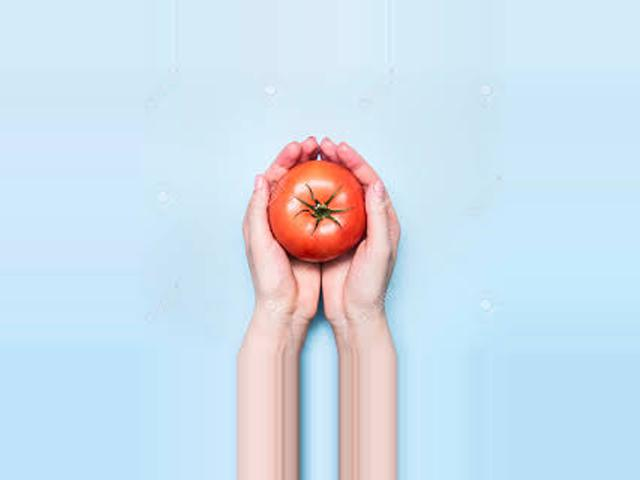tomato: (268, 160, 368, 261)
